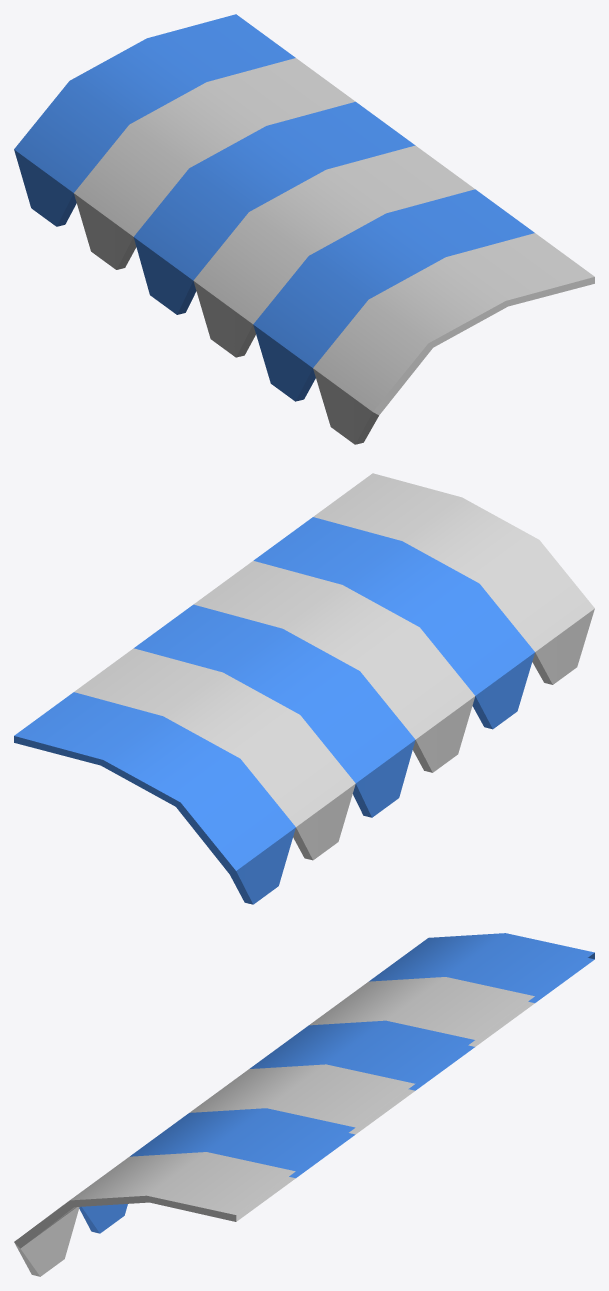
Rendered from Awning_3_H.fbx.
3 renders of one model, top to bottom at view 1: azimuth 30°, elevation 25°; view 2: azimuth 150°, elevation 25°; view 3: azimuth 330°, elevation 25°, orthographic.
Visible parts, largest first — view 1: Awning_3_H; view 2: Awning_3_H; view 3: Awning_3_H.
Part boxes in pixels (x1,y1,x2,y2): Awning_3_H: (14,14,594,444); Awning_3_H: (14,473,594,904); Awning_3_H: (14,933,594,1276).
Size of the model in its own units: 99.94 by 54.72 by 280.
